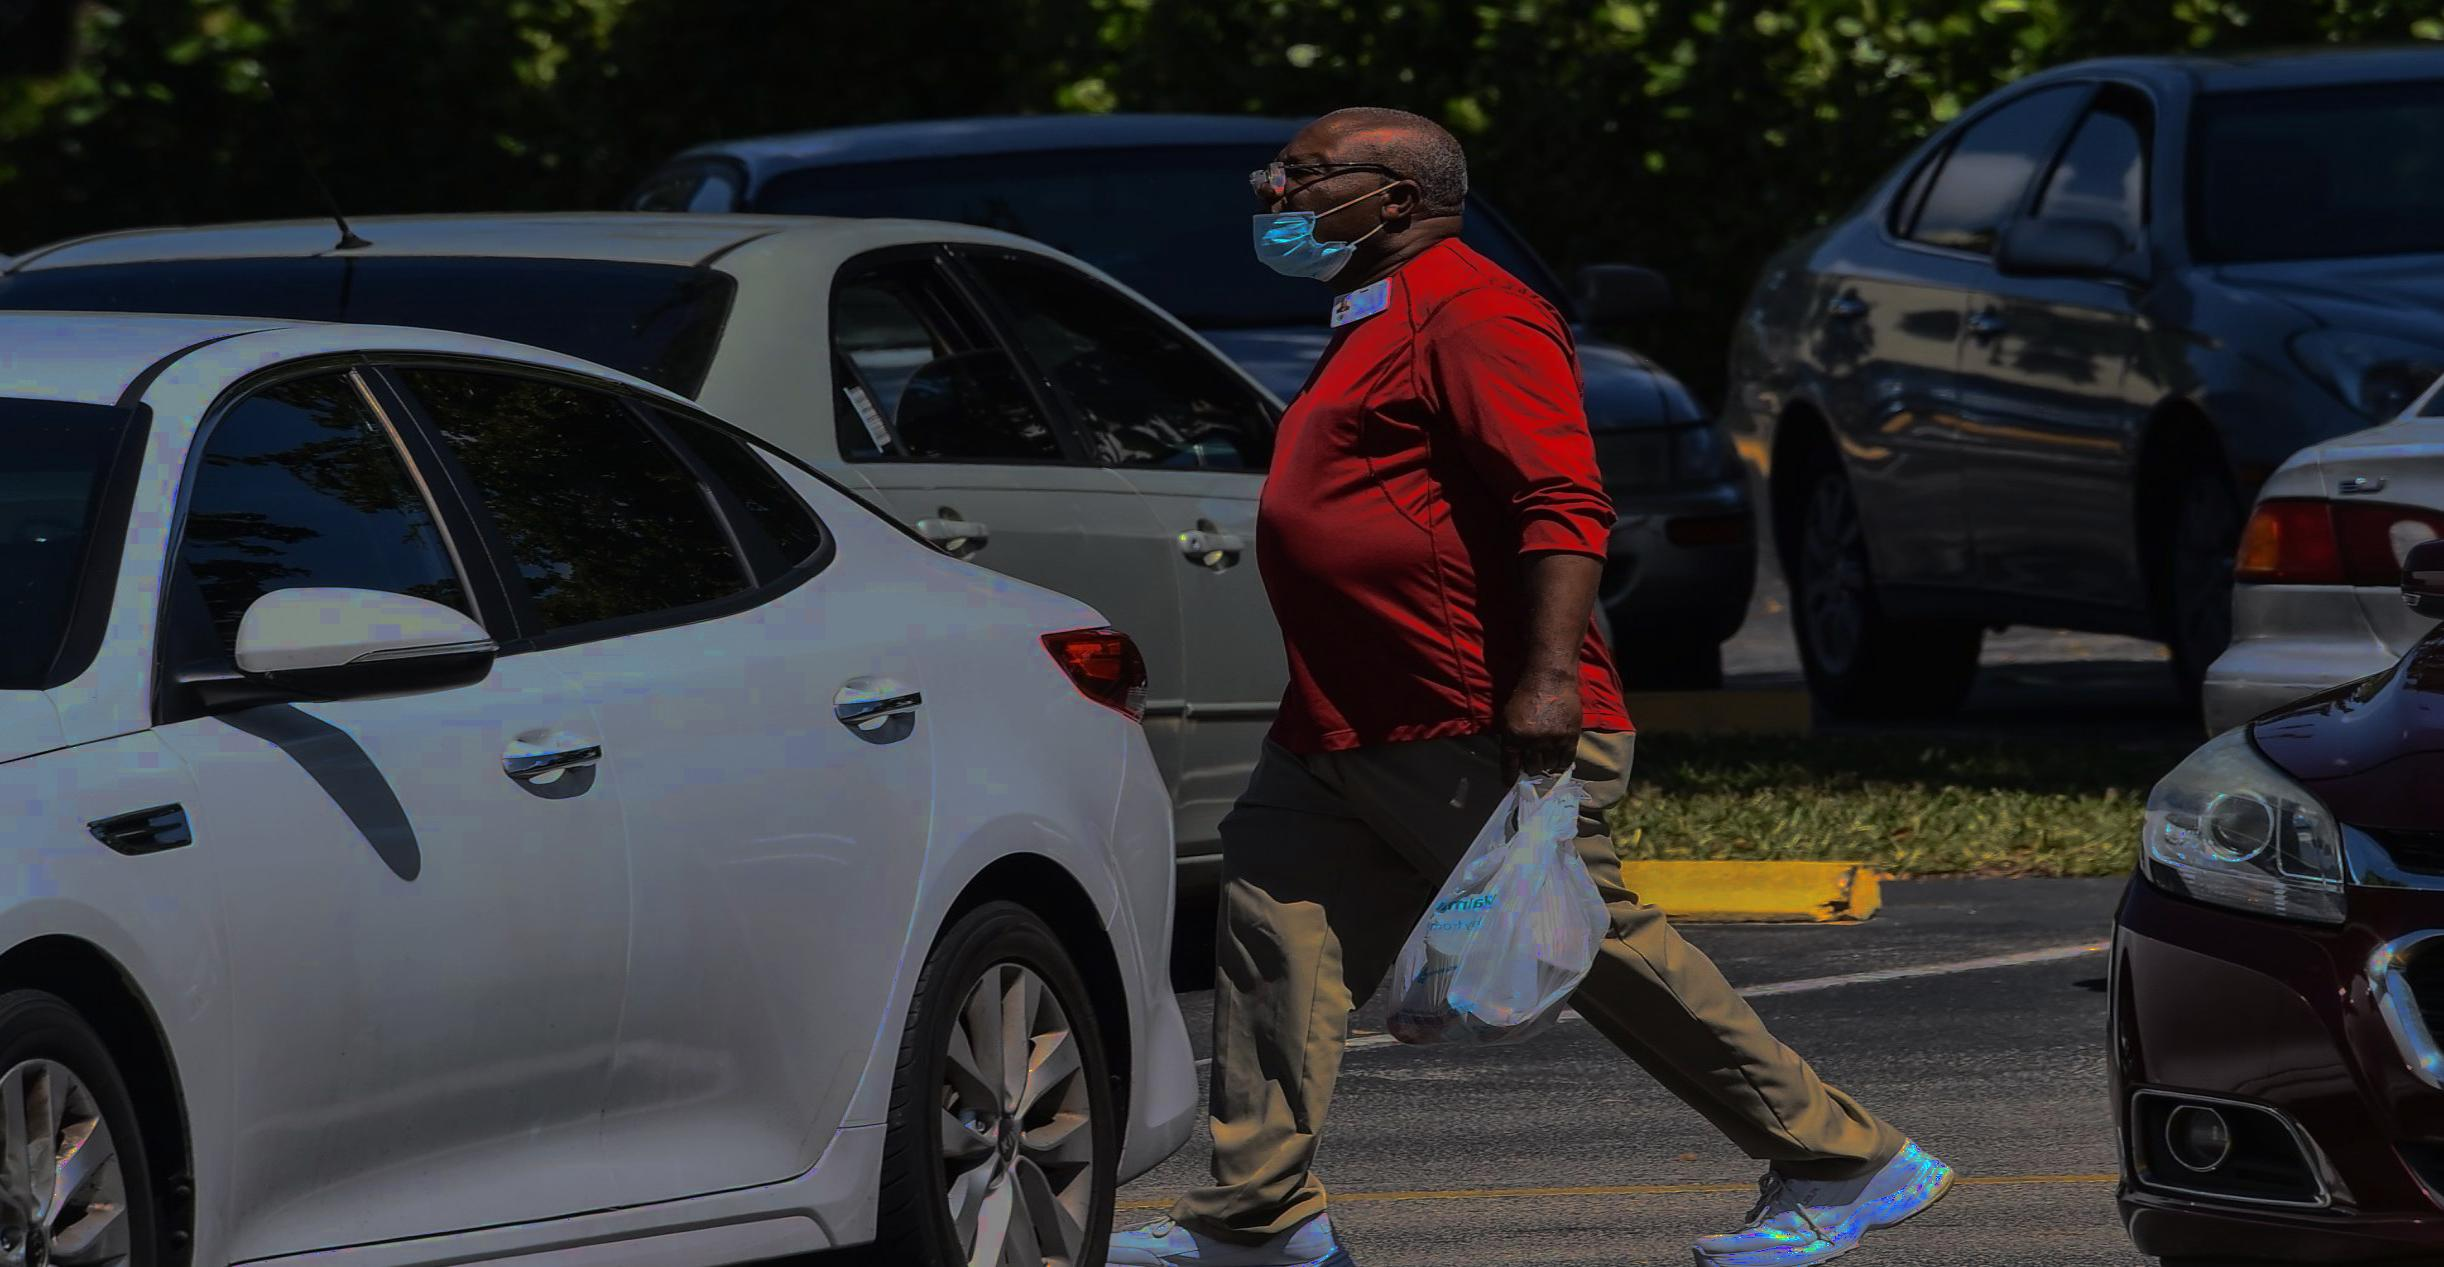mask_weared_incorrect: (1205, 98, 1440, 318), (1238, 106, 1483, 295)
